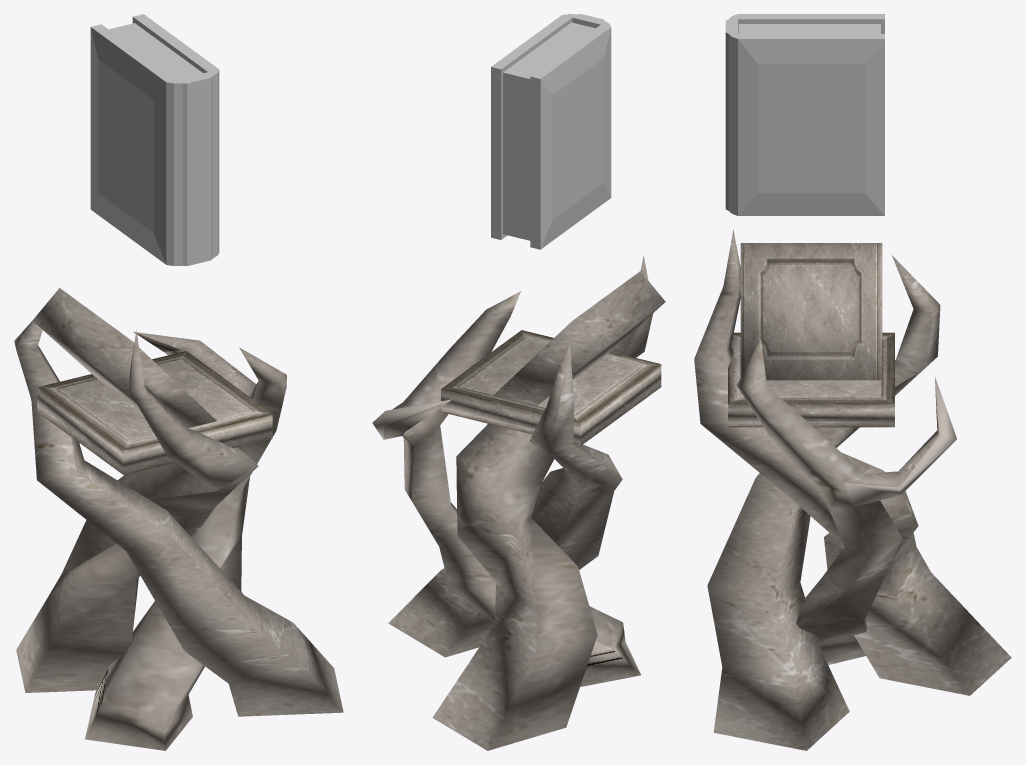
Rendered from LowPoly_Tomemedelic_TomePedestal.fbx.
The picture shows the model from 3 angles, left to right: view 1: azimuth 30°, elevation 25°; view 2: azimuth 150°, elevation 25°; view 3: azimuth 270°, elevation 25°; orthographic projection. The views are drawn at different scales.
Parts seen in each view (by area): view 1: Cube.001, Cube; view 2: Cube.001, Cube; view 3: Cube.001, Cube.
Boxes of the visible parts, x1,y1,x2,y2 form: Cube.001: (14,288,343,750); Cube: (90,14,219,266); Cube.001: (372,256,665,750); Cube: (491,14,611,249); Cube.001: (694,229,1011,750); Cube: (725,14,884,215).
Size of the model in its own units: 1.27 by 2.95 by 1.31.
